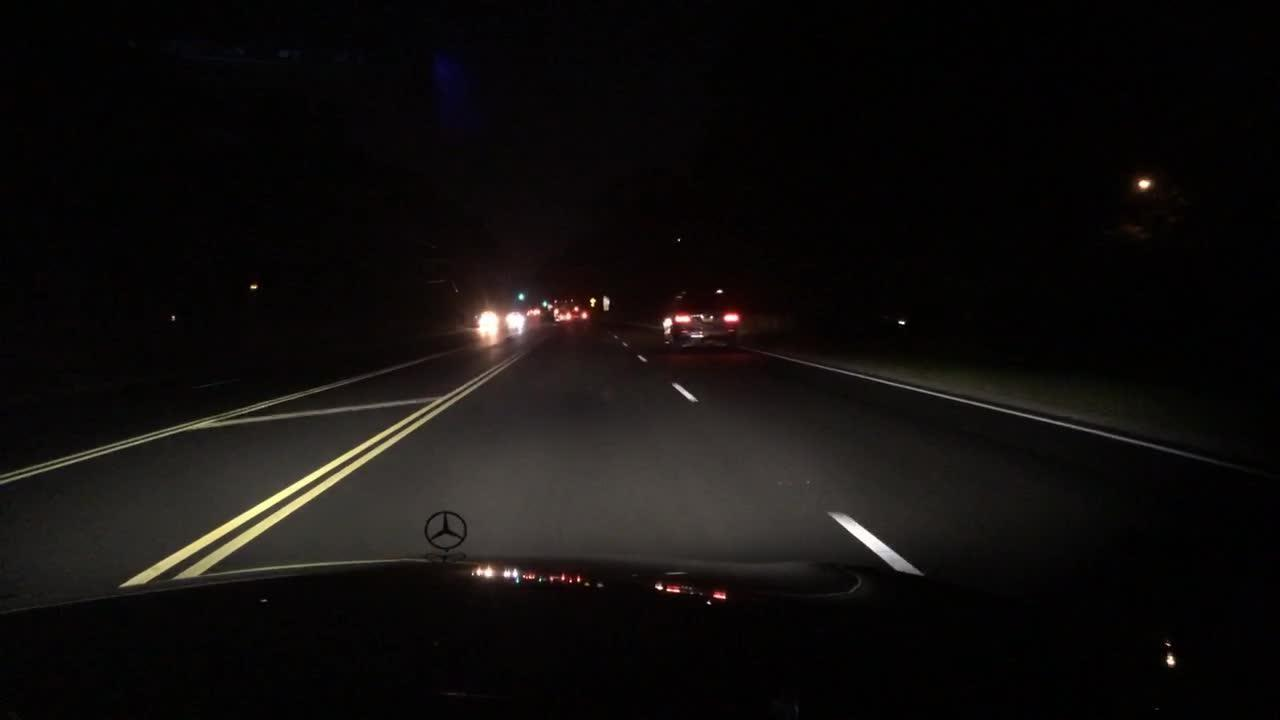Mercedes: (417, 496, 479, 559)
